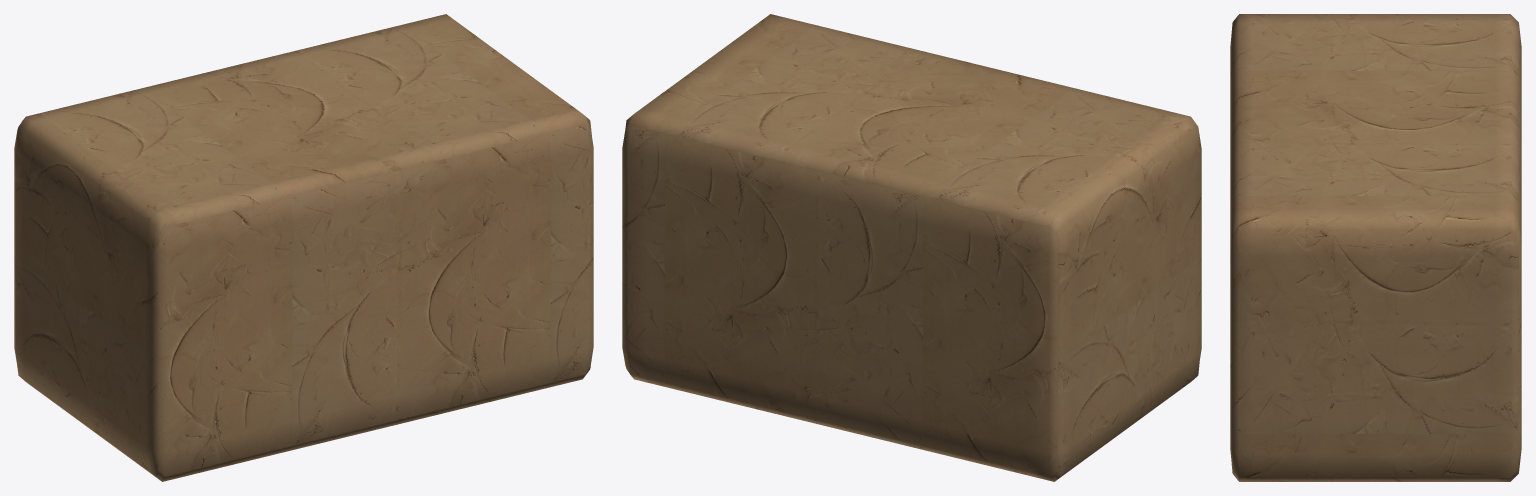
Rendered from clay.fbx.
The picture shows the model from 3 angles, left to right: view 1: azimuth 30°, elevation 25°; view 2: azimuth 150°, elevation 25°; view 3: azimuth 270°, elevation 25°; orthographic projection.
Visible parts, largest first — view 1: Cube; view 2: Cube; view 3: Cube.
Part boxes in pixels (box(x1,y1,x2,y2)): Cube: box(14, 14, 593, 481); Cube: box(622, 14, 1201, 481); Cube: box(1230, 14, 1521, 481).
Size of the model in its own units: 1.74 by 1 by 1.
